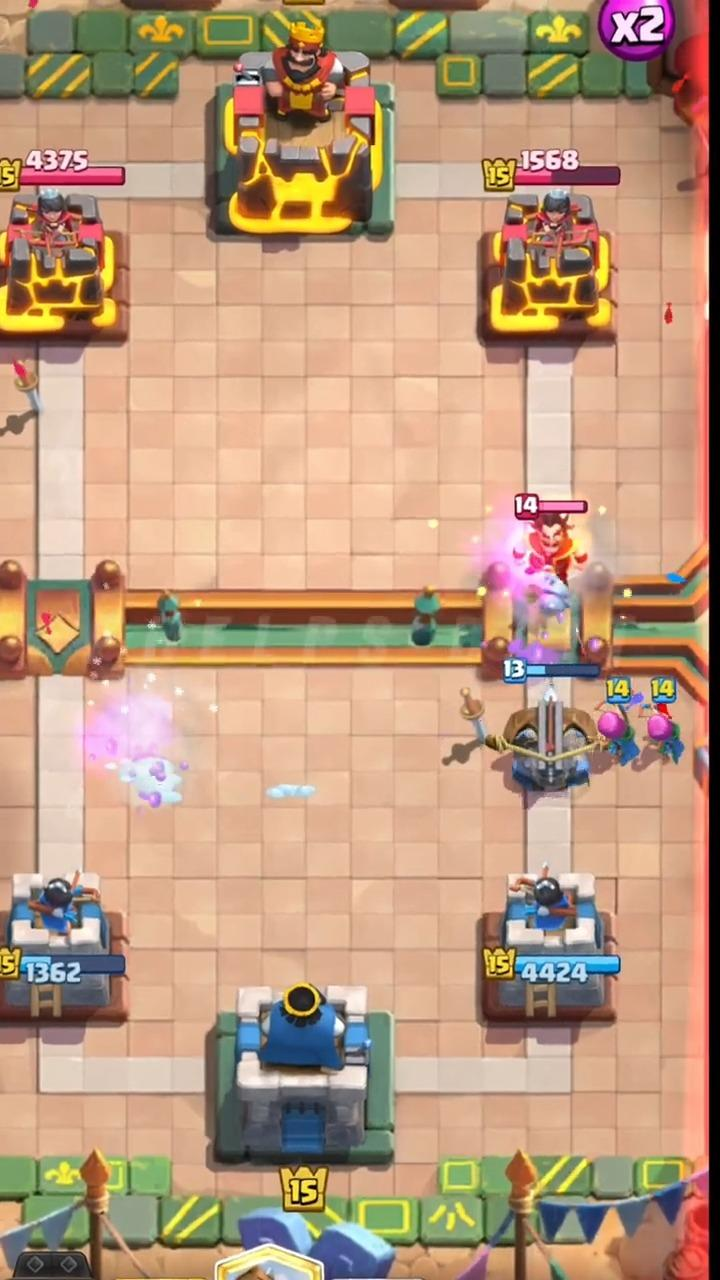archer: (598, 702, 639, 766), (643, 703, 684, 763)
electro wizard: (514, 503, 587, 585)
x-bow: (485, 682, 599, 793)
